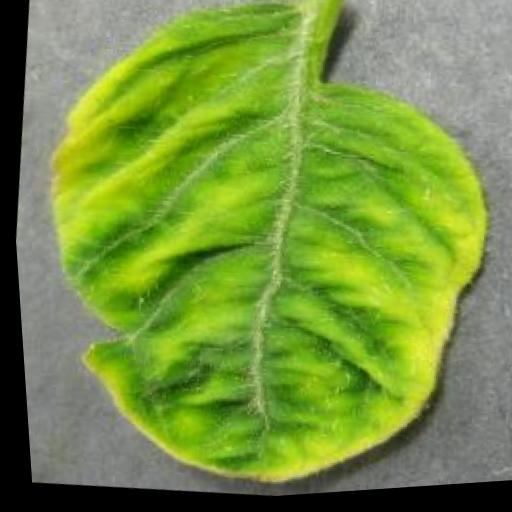Yellow Leaf Curl Virus: (5, 0, 512, 512)
